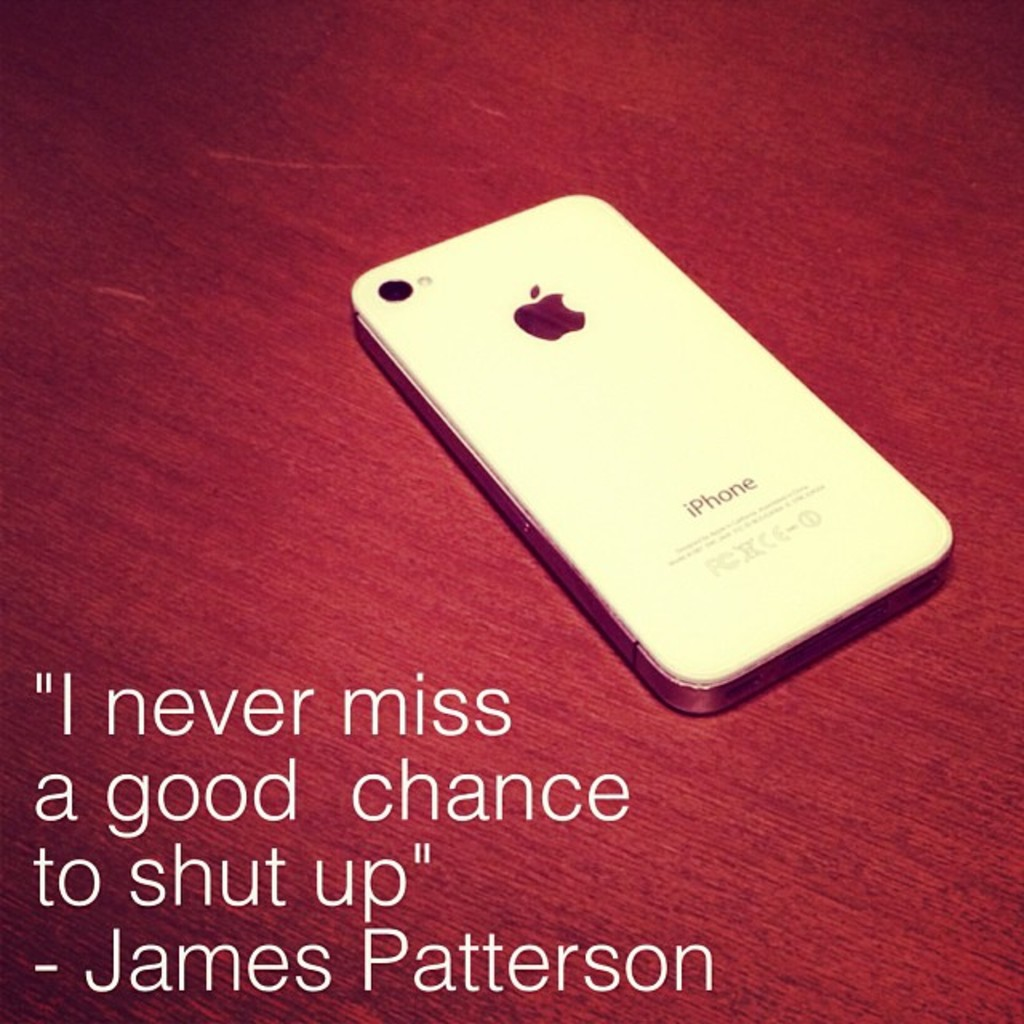Mobile-phone: (347, 190, 960, 712)
